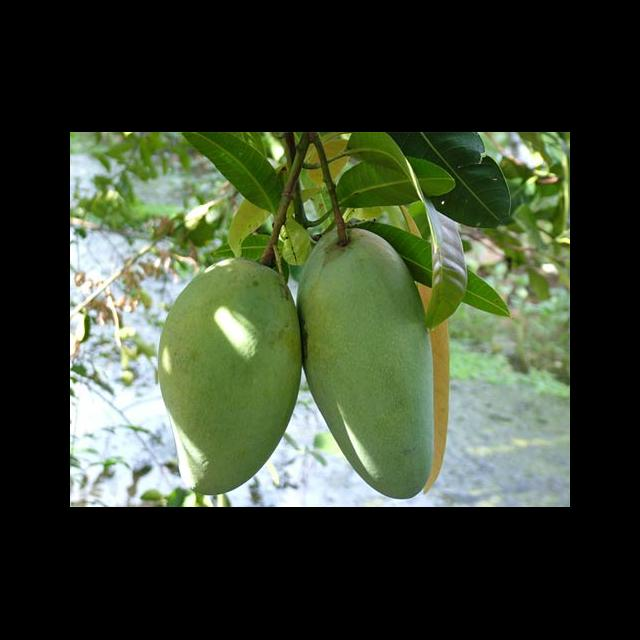xoai: (297, 227, 434, 499), (157, 259, 303, 493)
